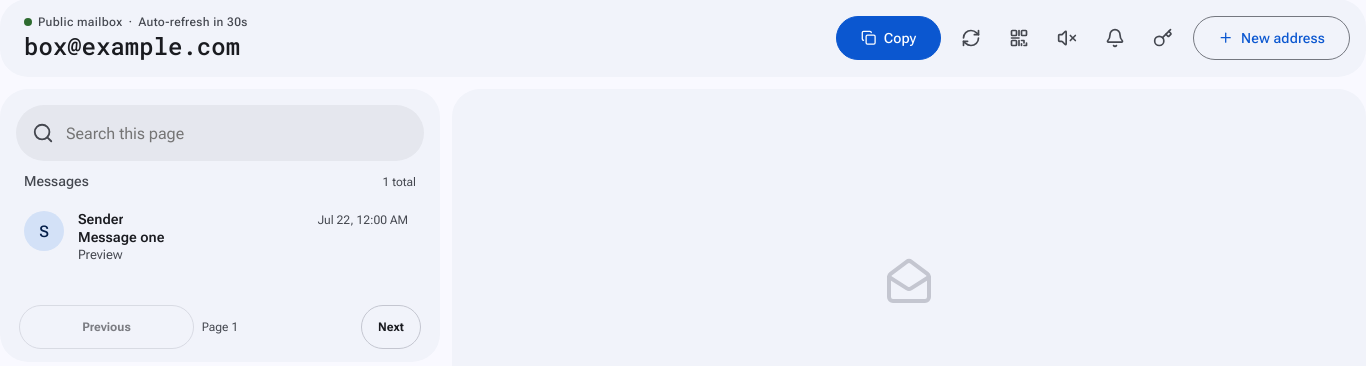
Test case: InboxView polling › clears the query when changing pages
Type "one" into the search field with placeholder "Search this page" at (237, 133), box [66,124,408,142]
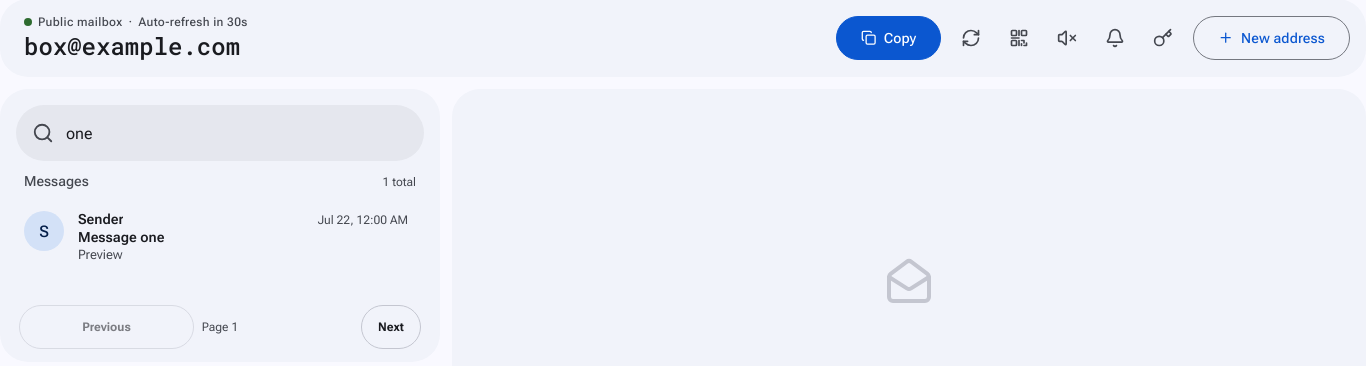
Click the button "Next" at (391, 327), box [361,305,421,349]
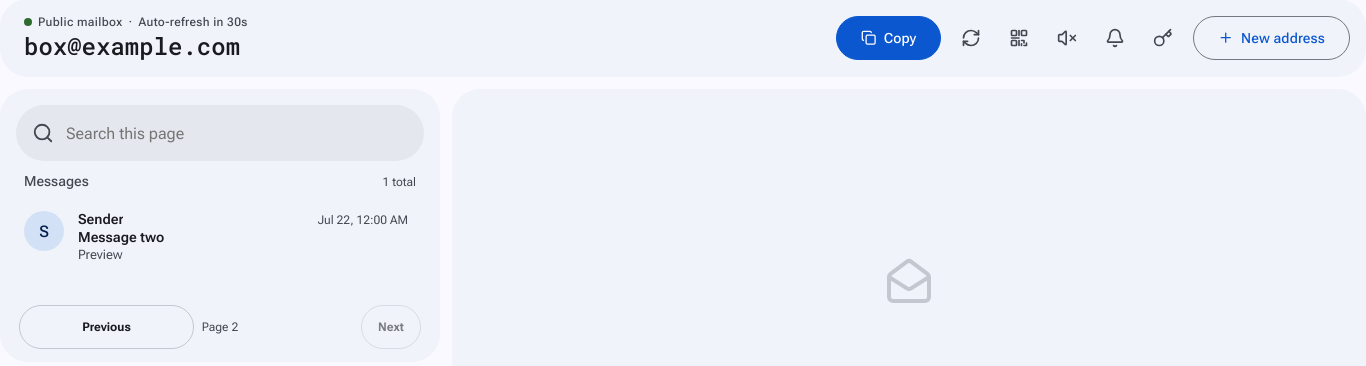
Expected: the search field with placeholder "Search this page" is empty, [66,124,408,142]
Expected: the text "Message two" is shown, [78,229,164,245]
